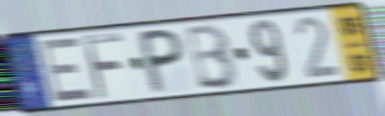2: (293, 14, 343, 82)
9: (249, 17, 292, 85)
B: (184, 21, 240, 91)
E: (39, 35, 96, 106)
F: (80, 31, 127, 103)
P: (138, 27, 185, 98)
